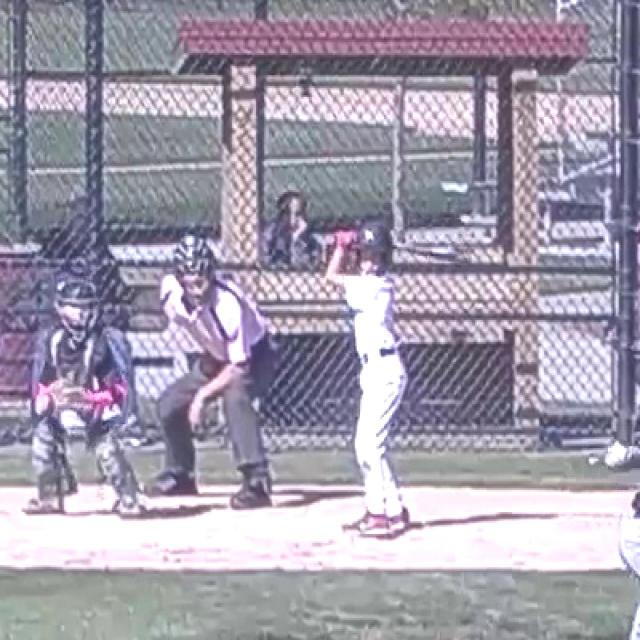baseball: (607, 445, 625, 464)
